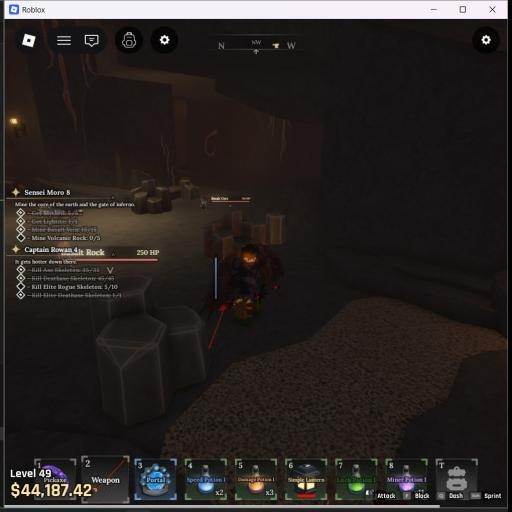player: (201, 243, 283, 324)
rock: (91, 275, 210, 425), (203, 209, 267, 260), (130, 180, 172, 214), (267, 213, 285, 244), (180, 178, 202, 200)
